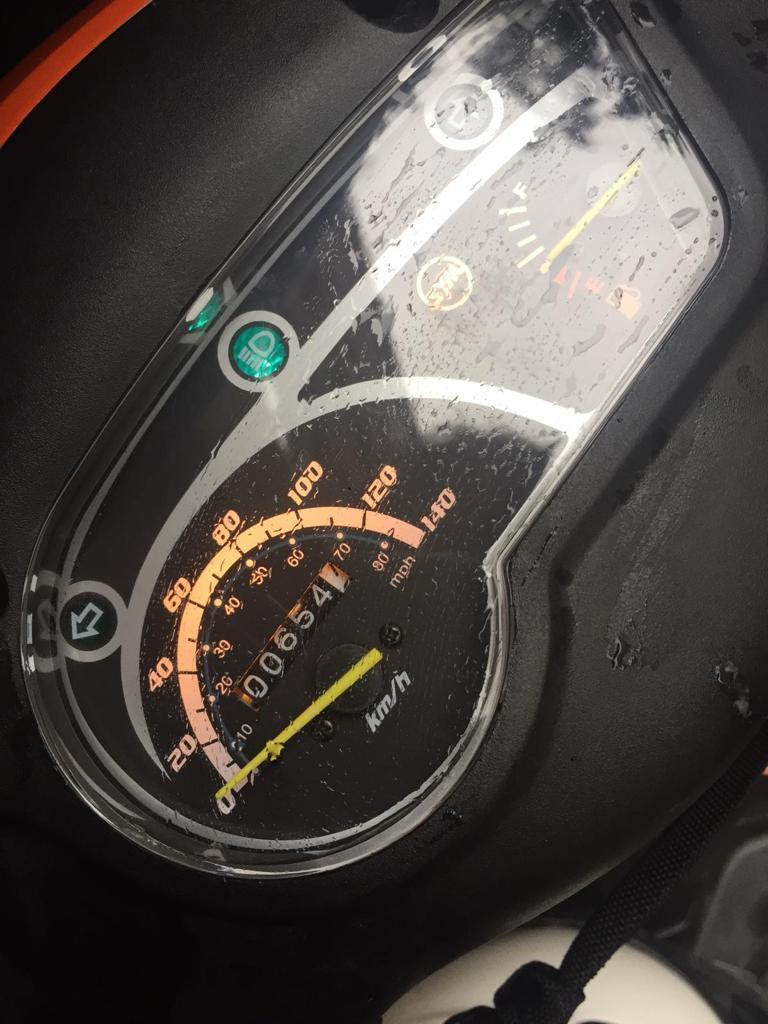0: (241, 674, 269, 700), (256, 651, 285, 676), (219, 639, 233, 651), (256, 565, 270, 577), (228, 595, 241, 607)
4: (308, 582, 335, 607), (224, 604, 235, 615)
5: (286, 601, 316, 629), (252, 573, 264, 587)
6: (272, 627, 298, 650), (286, 556, 299, 568)
7: (318, 560, 341, 579)
odometer: (222, 556, 365, 705)
